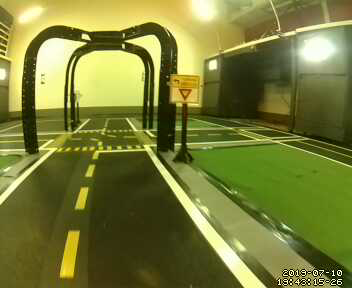Turn Yield: (169, 75, 200, 105)
